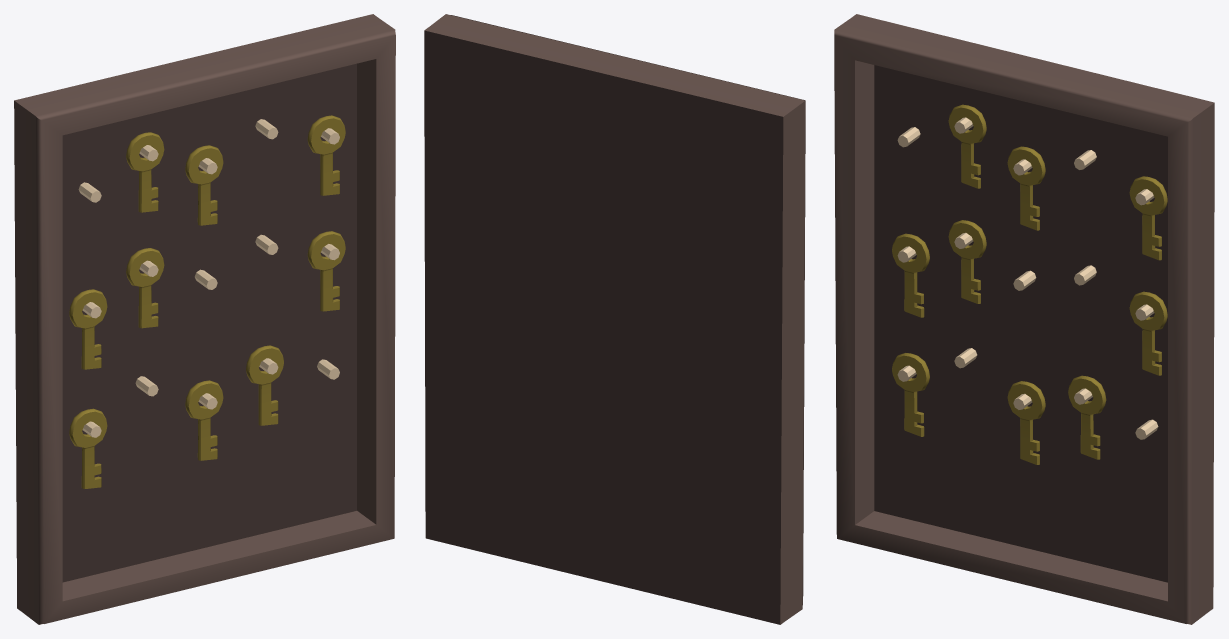
Rendered from KeyPegboard.fbx.
3 renders of one model, left to right at view 1: azimuth 30°, elevation 25°; view 2: azimuth 150°, elevation 25°; view 3: azimuth 330°, elevation 25°, orthographic.
Visible parts, largest first — view 1: PegBoard, key12, key4, key9, key5, key11, key15, key3, key6, key8; view 2: PegBoard; view 3: PegBoard, key5, key15, key12, key3, key9, key8, key6, key4, key11.
Boxes of the visible parts, x1,y1,x2,y2 form: PegBoard: (14, 14, 395, 624); key12: (246, 345, 283, 425); key4: (126, 248, 164, 328); key9: (126, 132, 164, 212); key5: (69, 289, 107, 369); key11: (185, 380, 223, 460); key15: (69, 408, 107, 488); key3: (307, 231, 345, 311); key6: (185, 145, 223, 225); key8: (307, 115, 345, 195); PegBoard: (424, 14, 805, 624); PegBoard: (834, 14, 1214, 624); key5: (892, 233, 929, 317); key15: (892, 353, 929, 436); key12: (1068, 375, 1106, 459); key3: (1129, 291, 1167, 375); key9: (948, 104, 986, 188); key8: (1129, 176, 1167, 260); key6: (1007, 146, 1045, 230); key4: (948, 220, 986, 303); key11: (1007, 381, 1045, 464).
Bounding box in the file's own units: 94.25 × 128 × 11.33.
